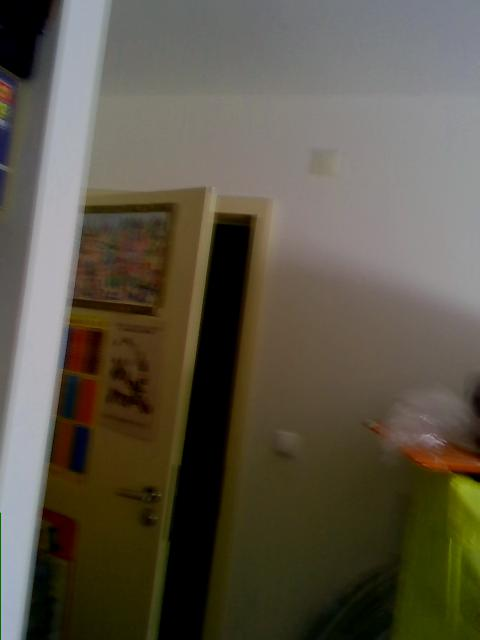semi_door: (25, 184, 272, 639)
